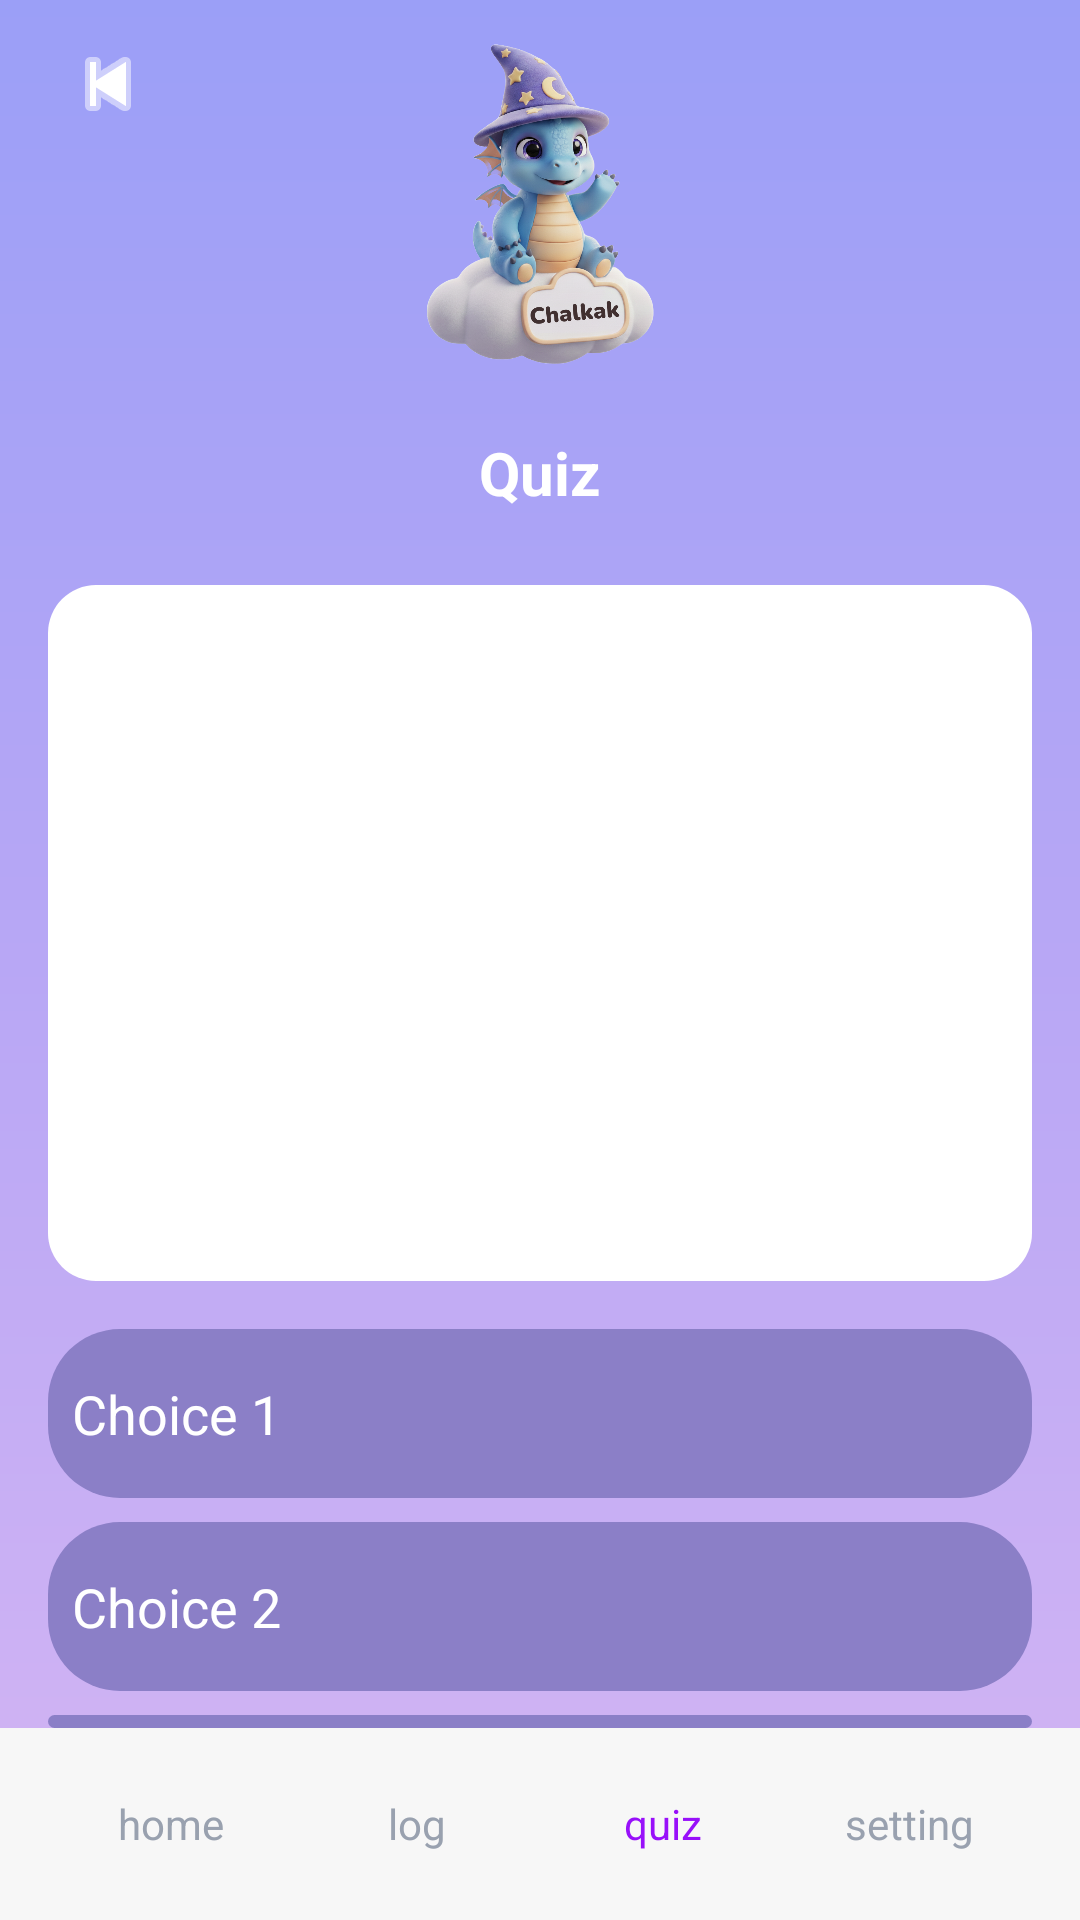

Where to tap for icons on this 1080*1920 app screen, as (x=x, y=y):
Back: (x=108, y=84)
